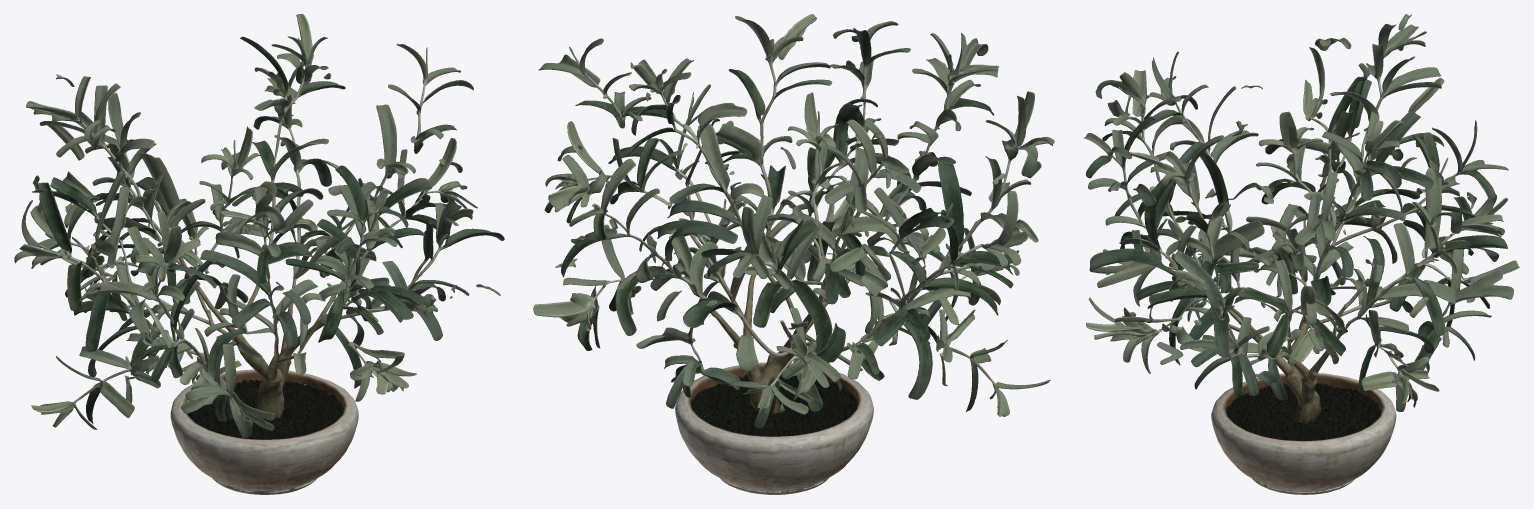
File: Miscellaneous [usFY_s].glb
The picture shows the model from 3 angles, left to right: view 1: azimuth 30°, elevation 25°; view 2: azimuth 150°, elevation 25°; view 3: azimuth 270°, elevation 25°; orthographic projection. The views are drawn at different scales.
Parts seen in each view (by area): view 1: geometry_0; view 2: geometry_0; view 3: geometry_0.
Boxes of the visible parts, x1,y1,x2,y2 form: geometry_0: [14, 14, 504, 494]; geometry_0: [533, 14, 1054, 494]; geometry_0: [1083, 14, 1519, 494].
Size of the model in its own units: 1 by 0.8482 by 0.8512.
Materials: 1 (1 with a texture image).
